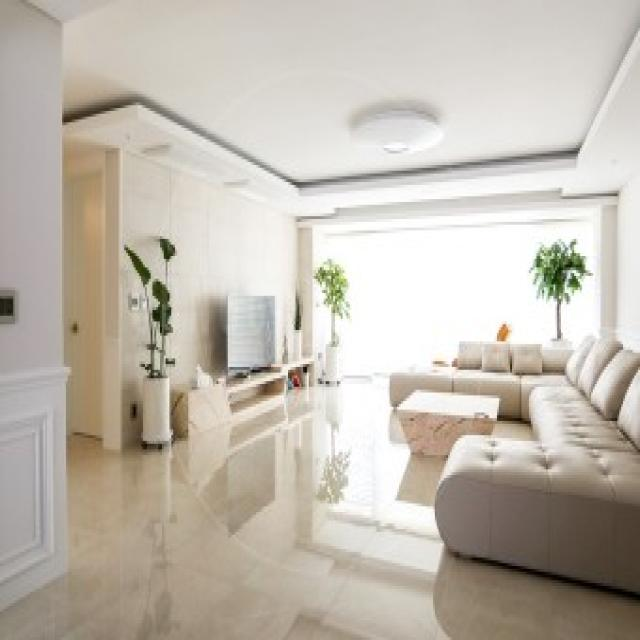Sofa: (392, 325, 640, 579)
Table: (398, 380, 501, 453)
tv: (228, 288, 275, 370)
window: (316, 227, 594, 341)
